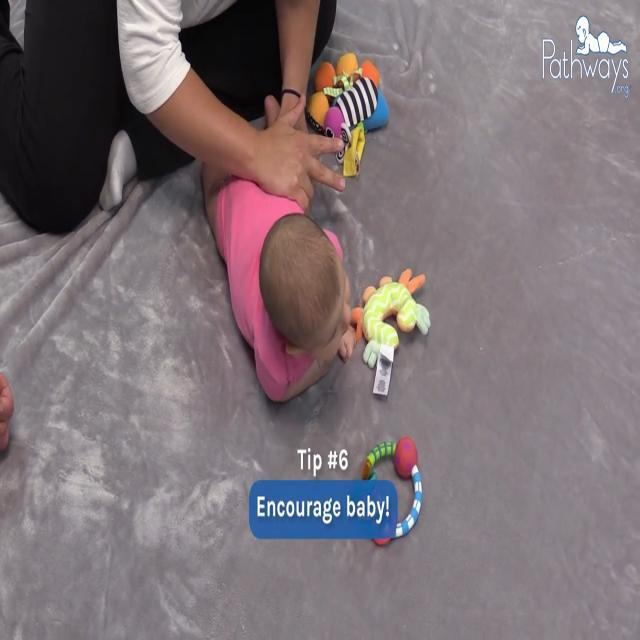baby: (191, 88, 367, 407)
